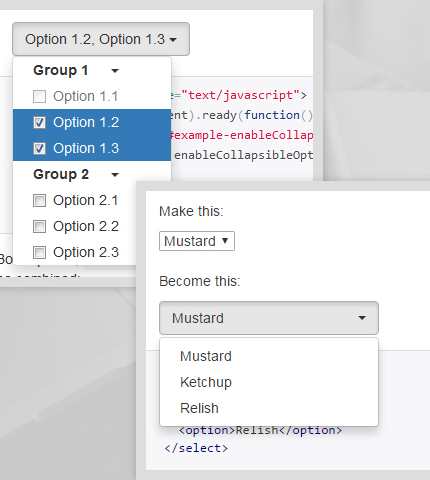checkbox: (31, 89, 50, 106), (30, 115, 48, 132), (29, 140, 46, 157)
radiobutton: (159, 298, 379, 424)
